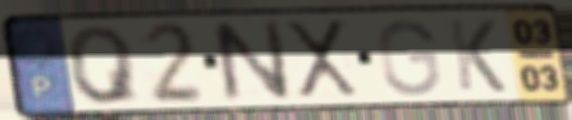2: (139, 19, 208, 108)
G: (374, 16, 443, 98)
K: (444, 17, 510, 95)
N: (206, 17, 296, 106)
Q: (63, 23, 146, 108)
X: (280, 17, 363, 102)
